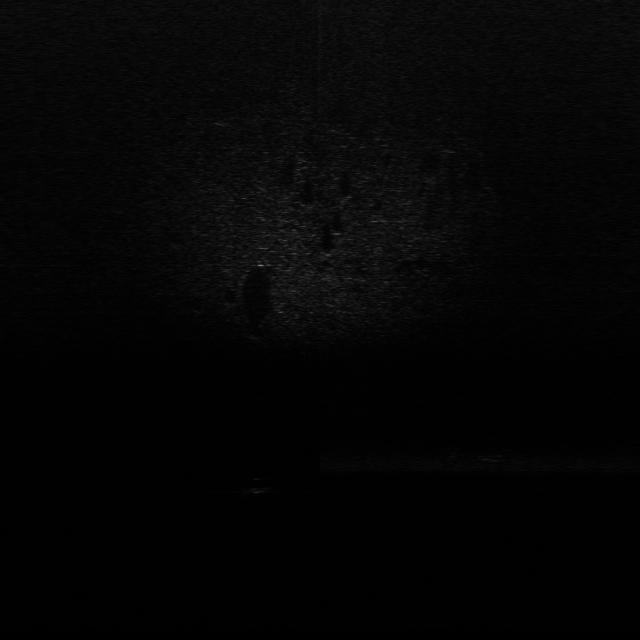ball: (234, 472, 276, 499)
human body: (450, 443, 534, 467)
